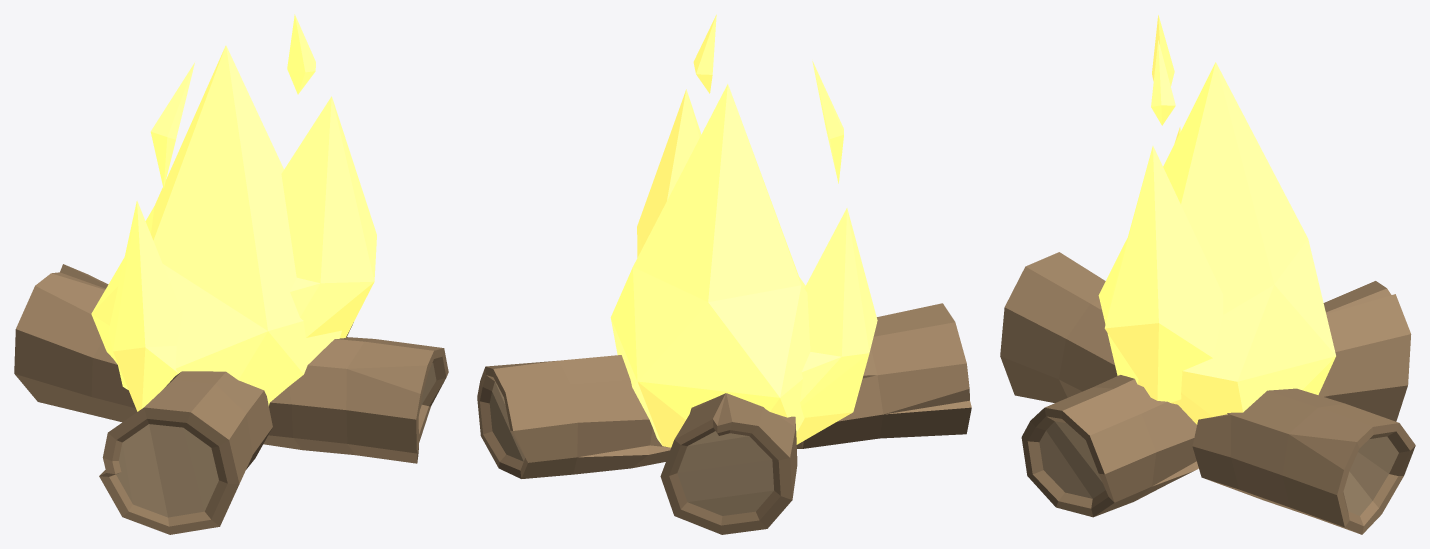
The model's file is bonfire_fire.glb.
The picture shows the model from 3 angles, left to right: view 1: azimuth 30°, elevation 25°; view 2: azimuth 150°, elevation 25°; view 3: azimuth 270°, elevation 25°; orthographic projection. The views are drawn at different scales.
Parts seen in each view (by area): view 1: Bonfire_Fire; view 2: Bonfire_Fire; view 3: Bonfire_Fire.
Boxes of the visible parts, bbox=[...] form: Bonfire_Fire: bbox=[14, 14, 448, 534]; Bonfire_Fire: bbox=[477, 14, 971, 534]; Bonfire_Fire: bbox=[1000, 15, 1415, 534].
Size of the model in its own units: 2.18 by 2.31 by 1.98.
